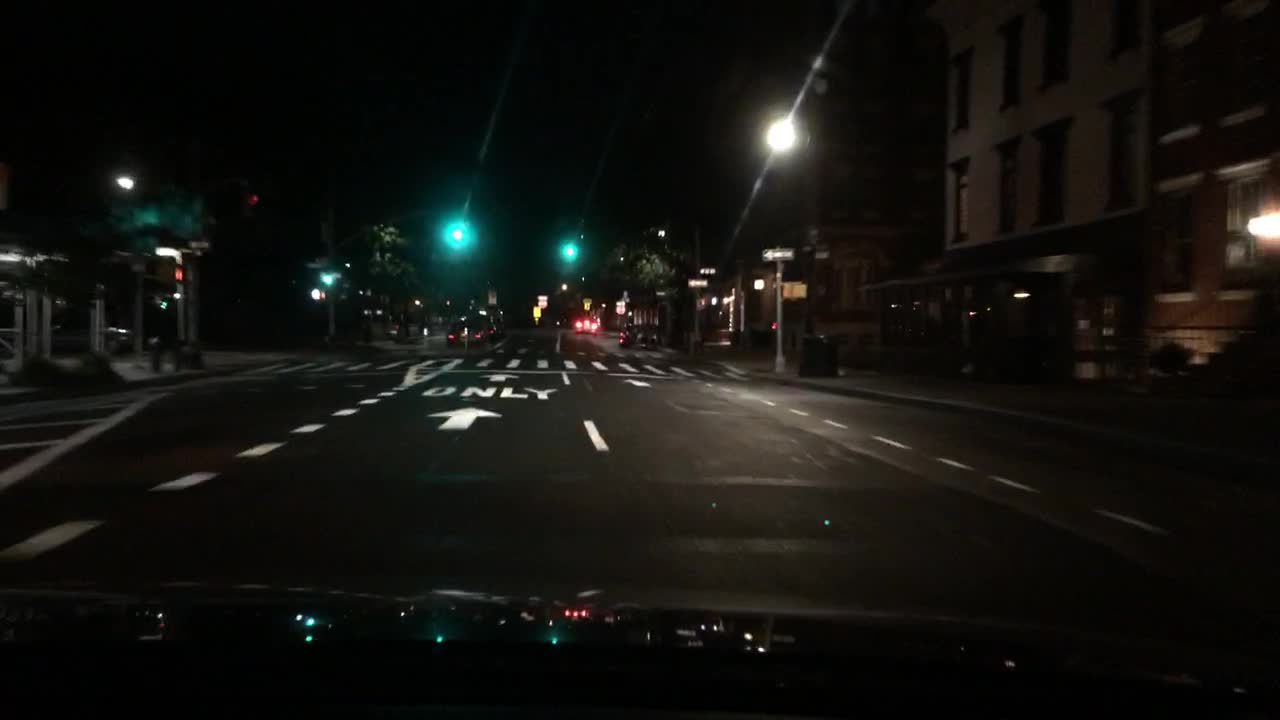car: (47, 324, 134, 356), (442, 315, 493, 347), (616, 324, 652, 347), (484, 312, 508, 337), (571, 321, 601, 335)
person: (146, 294, 183, 374)
traffic light: (155, 259, 183, 282), (240, 189, 260, 220), (779, 282, 808, 298), (450, 216, 466, 240), (564, 234, 577, 258), (320, 261, 334, 283), (308, 288, 323, 301)
traffic sign: (760, 247, 794, 261), (815, 243, 829, 261), (615, 300, 627, 316), (688, 277, 709, 286), (805, 226, 820, 238), (529, 306, 541, 321), (537, 294, 550, 306), (582, 297, 592, 310), (800, 243, 814, 252)
